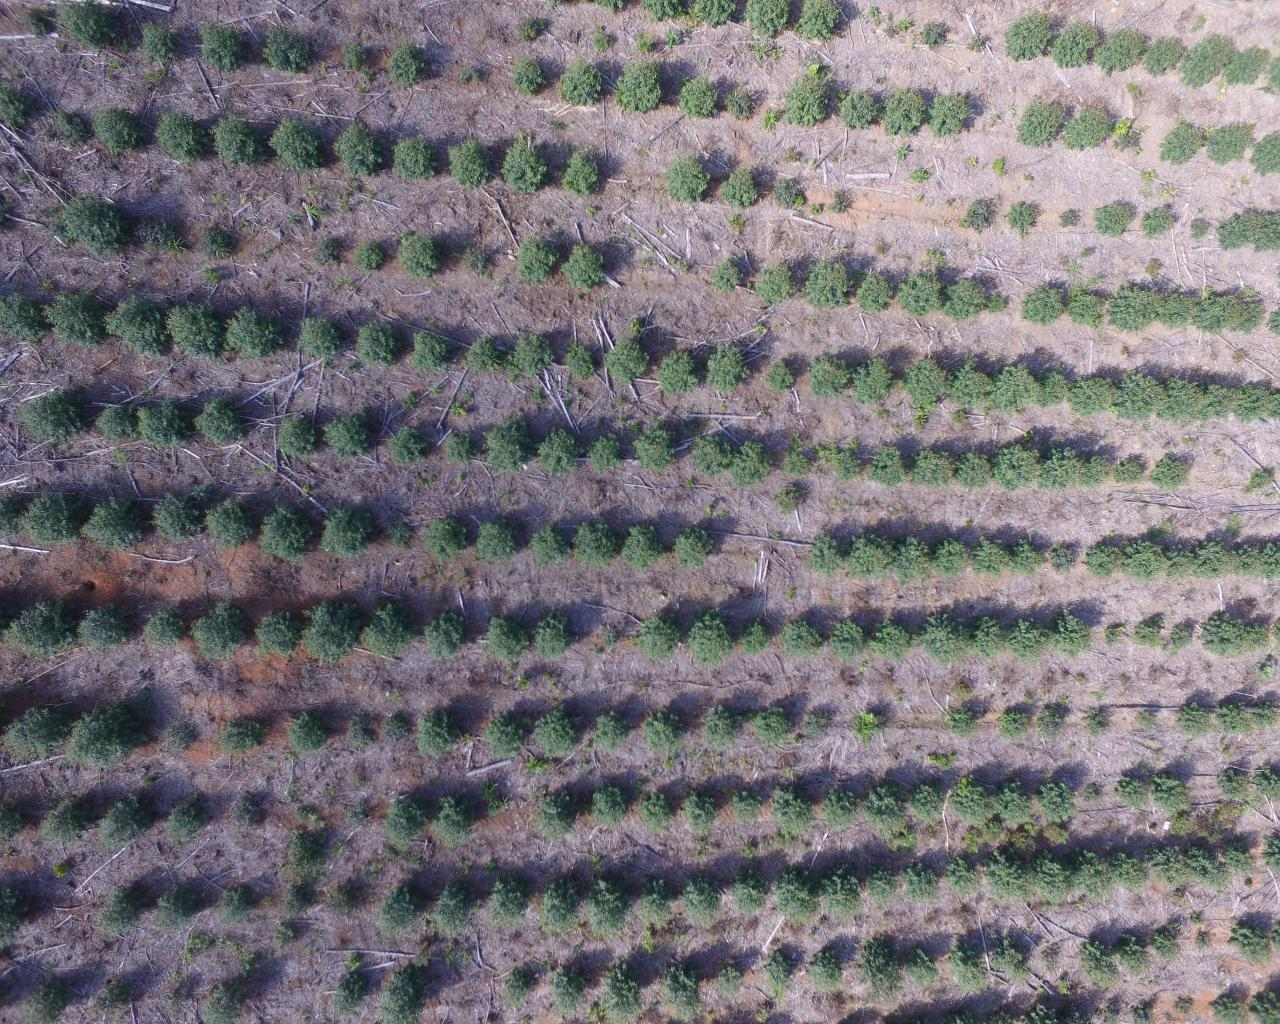Tree: (73, 695, 149, 768), (63, 196, 132, 258), (1, 703, 70, 760), (265, 115, 327, 178), (101, 295, 166, 354), (299, 600, 359, 660), (83, 496, 154, 548), (43, 288, 101, 350), (189, 600, 248, 661), (93, 98, 150, 160), (983, 844, 1030, 920), (223, 305, 288, 358), (501, 130, 553, 196), (98, 791, 156, 851), (155, 104, 210, 166), (24, 389, 86, 444), (319, 504, 380, 559), (529, 782, 583, 844), (8, 600, 69, 655), (772, 861, 818, 933), (22, 485, 79, 542), (259, 507, 315, 566), (332, 121, 387, 182), (210, 114, 269, 169), (363, 600, 415, 660), (166, 301, 222, 357), (1154, 111, 1207, 168), (819, 859, 863, 928), (730, 860, 771, 934), (191, 396, 249, 448), (153, 493, 210, 545), (531, 701, 581, 761), (685, 605, 734, 667), (40, 793, 94, 847), (918, 610, 969, 669), (806, 247, 850, 312), (483, 416, 531, 475), (390, 126, 437, 186), (631, 606, 683, 659), (684, 872, 727, 936), (197, 20, 250, 72), (352, 318, 405, 369), (898, 266, 947, 322), (666, 149, 712, 208), (1030, 845, 1071, 911), (601, 335, 653, 387), (321, 411, 377, 458), (598, 957, 643, 1016), (78, 601, 130, 652), (554, 57, 607, 107), (216, 712, 271, 760), (949, 773, 997, 828), (1183, 841, 1231, 895), (446, 130, 491, 187), (902, 353, 947, 411), (950, 355, 995, 413), (152, 885, 209, 930), (615, 60, 666, 111), (587, 877, 631, 935), (1107, 279, 1150, 338), (1147, 767, 1196, 819), (901, 939, 947, 995), (1050, 604, 1094, 661), (98, 882, 149, 931), (136, 397, 189, 444), (513, 233, 559, 287), (995, 358, 1040, 414), (676, 779, 721, 835), (1210, 111, 1251, 171), (207, 496, 257, 545), (857, 253, 893, 320), (990, 932, 1034, 986), (1072, 846, 1107, 916), (1115, 369, 1163, 419), (704, 344, 751, 395), (421, 511, 468, 562), (481, 705, 526, 759), (656, 960, 700, 1015), (947, 937, 990, 993), (482, 612, 530, 661), (1121, 533, 1168, 583), (868, 614, 918, 661), (535, 425, 581, 476), (994, 440, 1039, 492), (696, 701, 741, 753), (264, 24, 311, 73), (1066, 106, 1113, 155), (862, 934, 901, 994), (631, 424, 676, 475), (641, 705, 685, 757), (256, 605, 300, 657), (863, 856, 900, 918), (940, 852, 982, 906), (805, 352, 852, 400), (621, 519, 669, 566), (474, 518, 523, 564), (415, 707, 461, 757), (1033, 776, 1079, 825), (398, 230, 443, 280), (585, 784, 635, 829), (432, 883, 476, 933), (293, 316, 344, 359), (575, 516, 619, 567), (387, 790, 424, 850), (421, 610, 468, 657), (163, 797, 210, 844), (406, 328, 455, 374), (1197, 610, 1247, 655), (432, 791, 472, 844), (777, 615, 824, 661), (275, 412, 319, 461), (1006, 525, 1048, 576), (852, 355, 898, 401), (862, 782, 908, 828), (529, 519, 573, 567), (815, 782, 859, 830), (731, 437, 774, 486), (994, 777, 1037, 827), (636, 782, 674, 837), (1000, 196, 1047, 240), (656, 348, 700, 395), (753, 258, 797, 305), (908, 776, 947, 830), (904, 857, 938, 916), (724, 778, 765, 829), (92, 399, 137, 444), (845, 532, 891, 576), (1148, 447, 1192, 493), (509, 332, 556, 375), (1007, 614, 1049, 662), (770, 778, 812, 827), (1040, 436, 1077, 489), (882, 91, 926, 136), (790, 78, 832, 125), (1213, 692, 1254, 740), (1109, 848, 1149, 897), (135, 20, 184, 60), (388, 38, 426, 88), (1069, 371, 1113, 415), (589, 709, 633, 753), (561, 243, 603, 289), (1111, 929, 1150, 977), (497, 960, 536, 1009), (532, 612, 574, 657), (746, 706, 791, 748), (288, 708, 333, 750), (140, 605, 186, 646), (674, 522, 714, 569), (1083, 531, 1122, 578), (895, 532, 934, 580), (637, 875, 672, 928), (559, 150, 602, 193), (970, 613, 1006, 664), (829, 615, 867, 662), (1078, 443, 1115, 492), (381, 880, 418, 929), (1093, 200, 1137, 240), (586, 434, 626, 479), (692, 433, 731, 478), (947, 275, 986, 320), (1155, 284, 1191, 332), (549, 969, 587, 1014), (541, 880, 576, 930), (1067, 281, 1101, 331), (806, 946, 842, 993), (46, 109, 91, 146), (1148, 844, 1185, 890), (737, 614, 776, 656), (508, 54, 546, 97), (461, 333, 504, 372), (1021, 98, 1057, 143), (932, 534, 969, 579), (708, 252, 747, 294), (1191, 537, 1234, 575), (0, 80, 31, 132), (1138, 203, 1183, 238), (910, 449, 955, 485), (1173, 699, 1214, 738), (340, 707, 376, 750), (680, 76, 716, 120), (1255, 118, 1280, 180), (385, 427, 430, 461), (719, 167, 759, 206), (216, 883, 256, 922), (1024, 284, 1062, 325), (493, 879, 529, 922), (561, 344, 598, 385), (867, 447, 908, 484), (1149, 924, 1186, 964), (972, 532, 1004, 577), (932, 94, 968, 135), (1114, 448, 1149, 489), (962, 195, 994, 241), (1195, 299, 1237, 333), (810, 534, 842, 577), (355, 234, 390, 274), (1114, 768, 1145, 811), (955, 452, 993, 487), (1133, 611, 1165, 651), (840, 92, 876, 127), (992, 704, 1030, 737), (444, 430, 478, 467), (762, 948, 795, 984), (1048, 536, 1080, 574), (281, 879, 317, 912), (1218, 768, 1250, 806), (1225, 837, 1255, 876), (340, 41, 372, 74), (134, 215, 173, 242), (723, 90, 755, 122), (1037, 702, 1068, 736), (1078, 705, 1112, 737), (832, 449, 862, 484), (765, 360, 797, 392), (380, 711, 413, 742), (945, 706, 979, 736), (387, 521, 418, 552), (828, 189, 860, 218), (197, 228, 232, 255), (316, 236, 343, 270), (783, 451, 813, 480), (801, 708, 833, 735), (1056, 205, 1086, 231), (773, 178, 797, 207), (1186, 215, 1212, 240)
